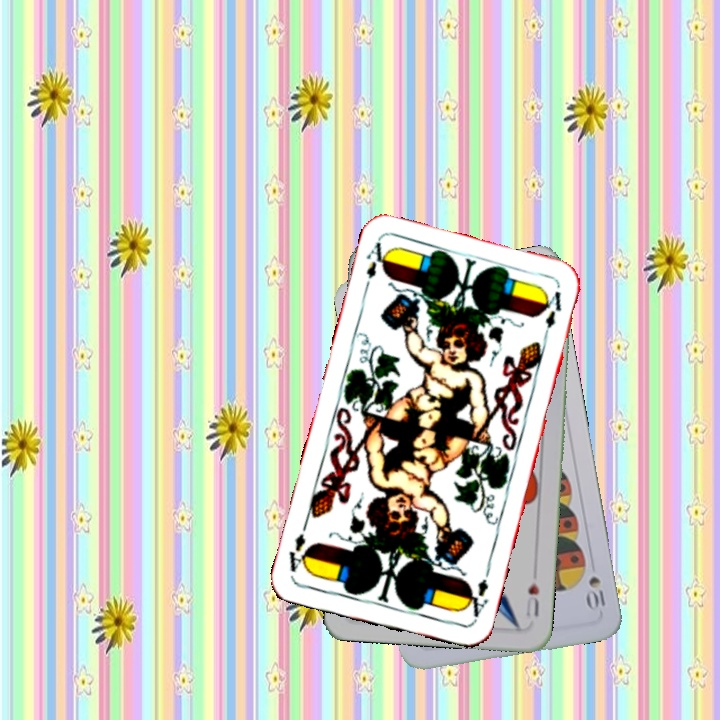EA: (360, 237, 392, 295), (461, 575, 491, 624)
HU: (522, 579, 542, 622)
S10: (583, 571, 608, 614)
